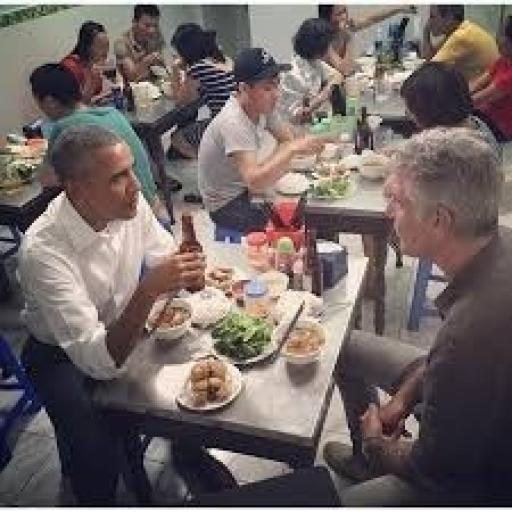eating: (9, 9, 510, 501)
